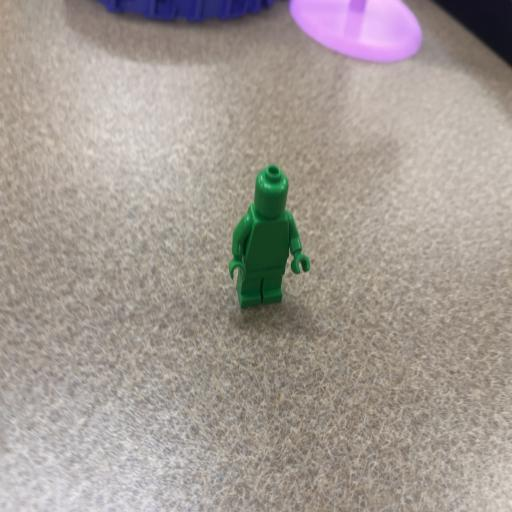Lego-Minifig: (229, 165, 310, 308)
